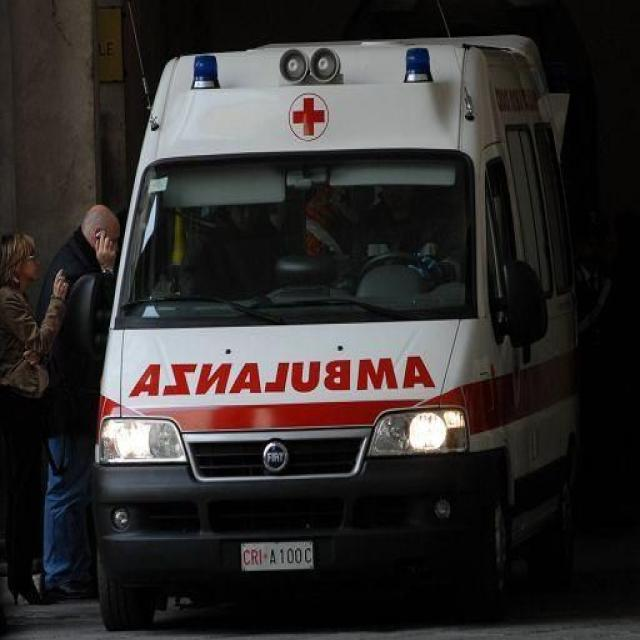emergency-vehicle: (93, 36, 595, 639)
